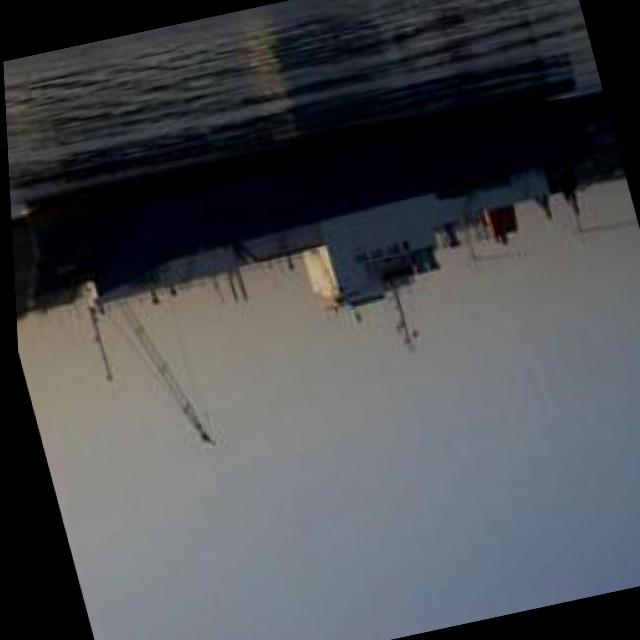ship2: (16, 100, 586, 353)
